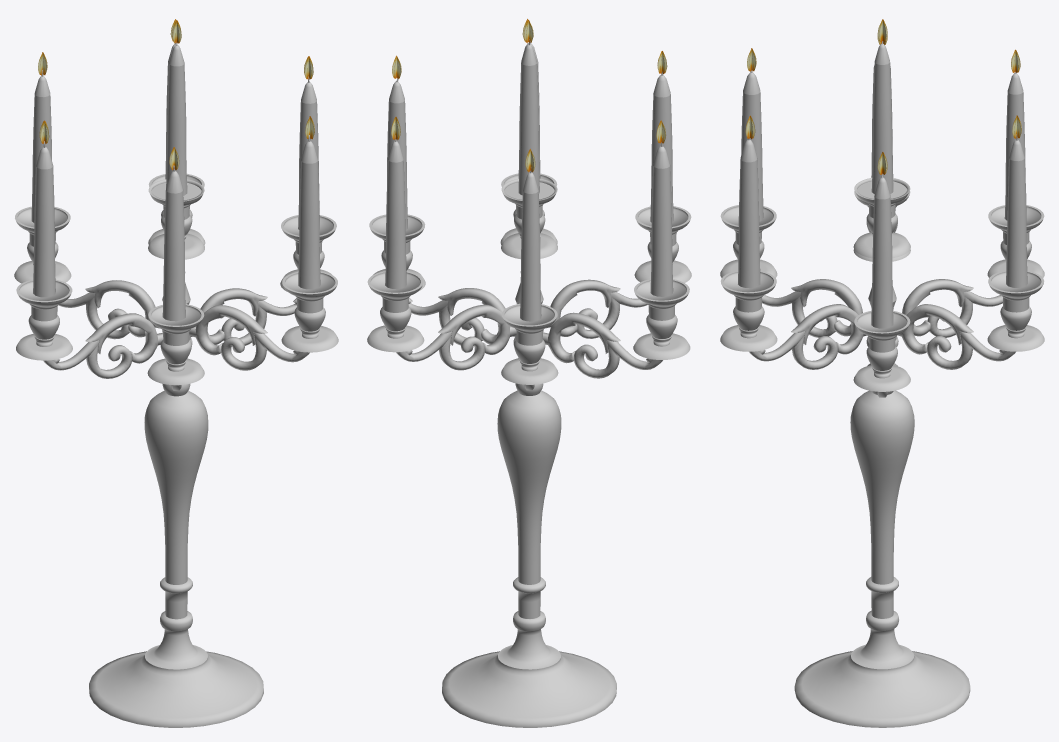
Rendered from brass_candleholder_c.fbx.
3 renders of one model, left to right at view 1: azimuth 30°, elevation 25°; view 2: azimuth 150°, elevation 25°; view 3: azimuth 270°, elevation 25°, orthographic.
Visible parts, largest first — view 1: brass_candleholder_03_LOD0; view 2: brass_candleholder_03_LOD0; view 3: brass_candleholder_03_LOD0.
Part boxes in pixels (left/top/right/bottom): brass_candleholder_03_LOD0: left=14, top=19, right=338, bottom=727; brass_candleholder_03_LOD0: left=367, top=19, right=691, bottom=727; brass_candleholder_03_LOD0: left=720, top=19, right=1044, bottom=727.
Size of what is drawn, in the model's own units: 40.83 by 83.53 by 36.47.
